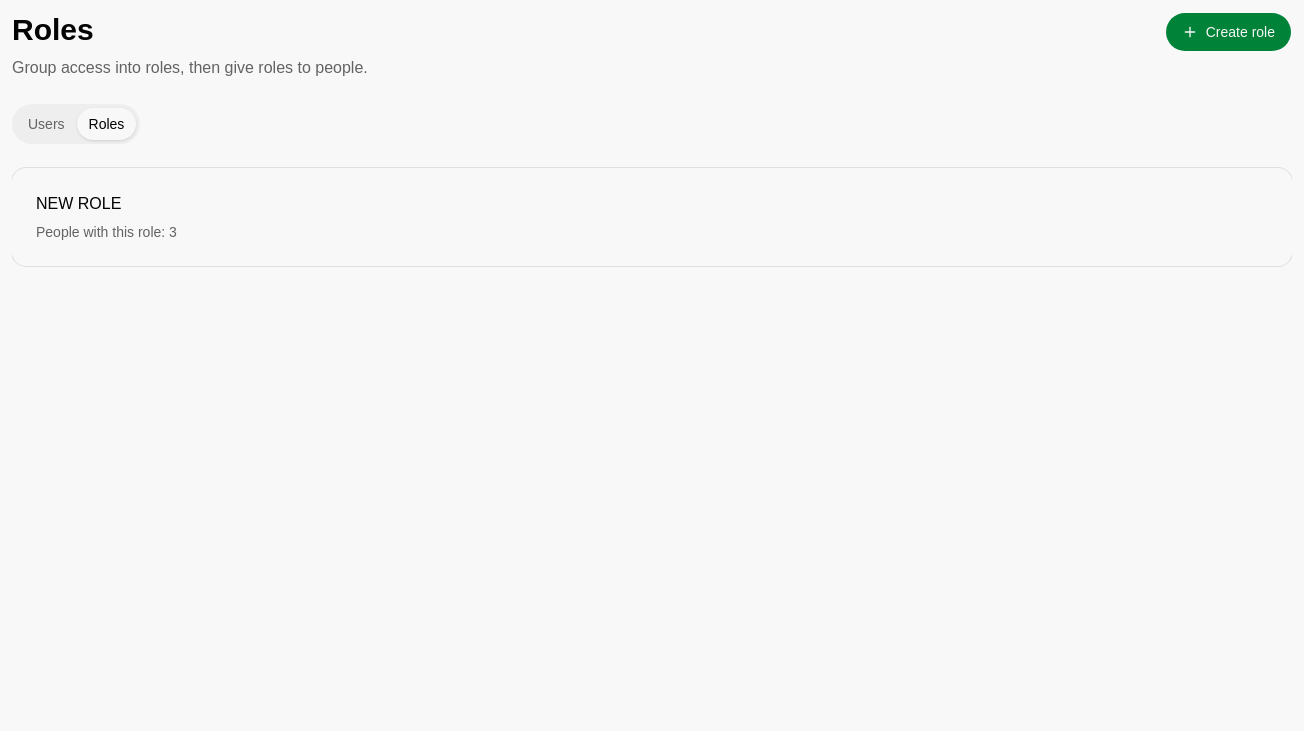
Test case: role management › chooses a free default name and lists names and people without permission summaries
Expected: the text "Manage users" is not shown
What coordinates should you click on to do the following:
click the button "Create role"
I would click on:
 (1228, 32)
Its box is [1165,12,1292,52].
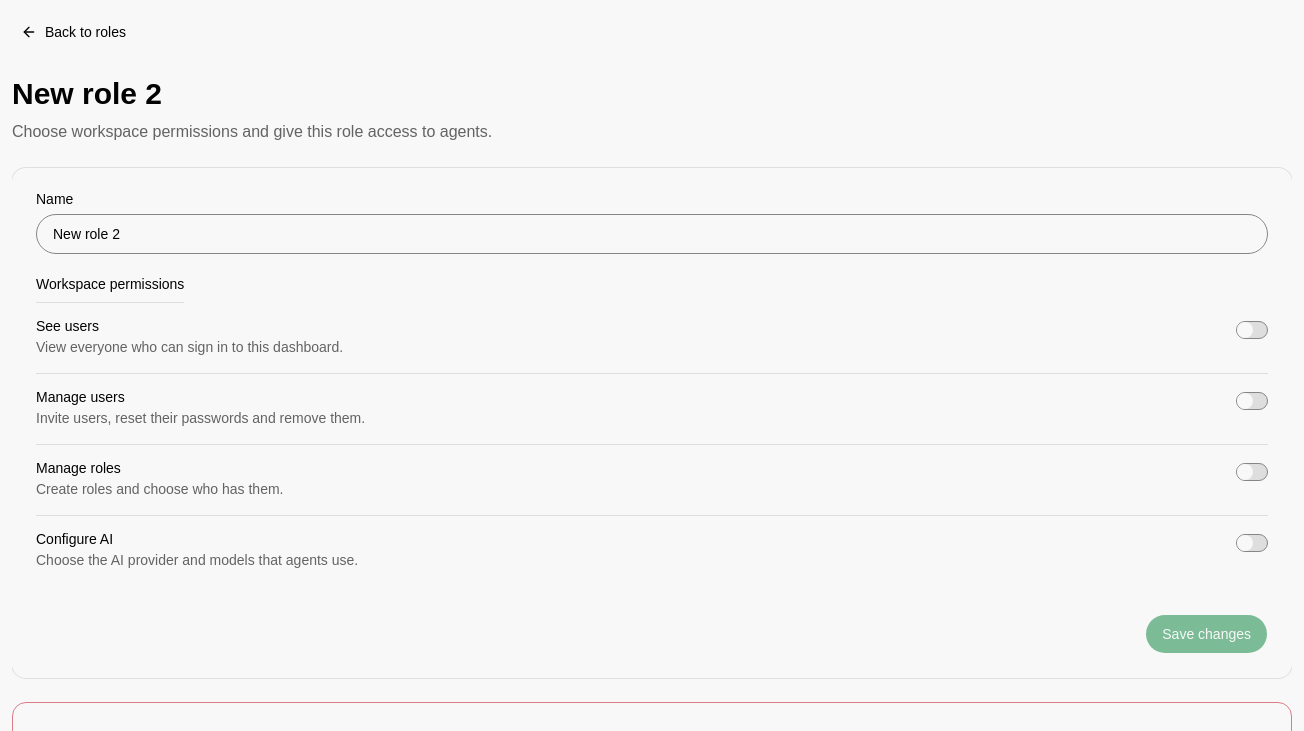
Now the field labelled "Name" holds "New role 2", box [36,214,1268,254]
